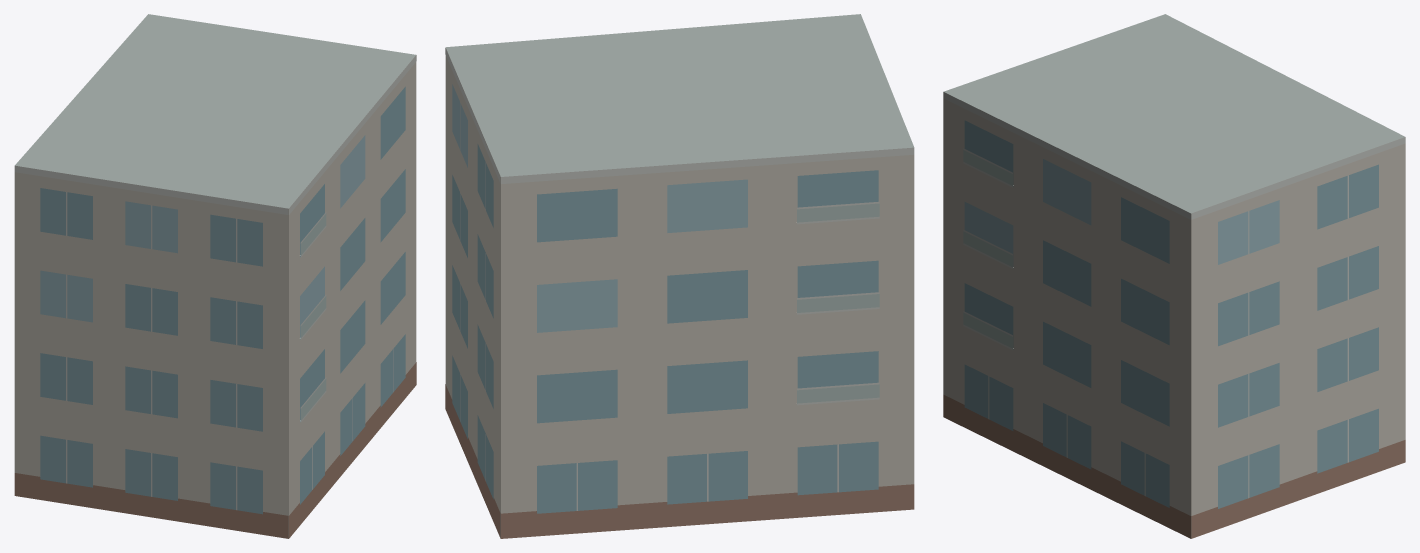
Rendered from survey-upis-32646863.glb.
3 views of the same model, side by side, from view 1: azimuth 30°, elevation 25°; view 2: azimuth 150°, elevation 25°; view 3: azimuth 270°, elevation 25° (orthographic). The views are drawn at different scales.
Parts seen in each view (by area): view 1: survey-upis-32646863.tmp; view 2: survey-upis-32646863.tmp; view 3: survey-upis-32646863.tmp.
Boxes of the visible parts, bbox=[...] form: survey-upis-32646863.tmp: bbox=[14, 14, 416, 538]; survey-upis-32646863.tmp: bbox=[445, 14, 914, 538]; survey-upis-32646863.tmp: bbox=[943, 14, 1405, 538].
Bounding box in the file's own units: 16.18 × 12.3 × 15.84.
